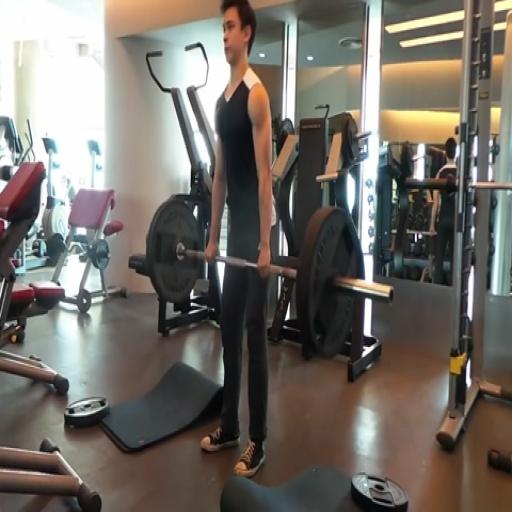exercise: (198, 0, 279, 479)
